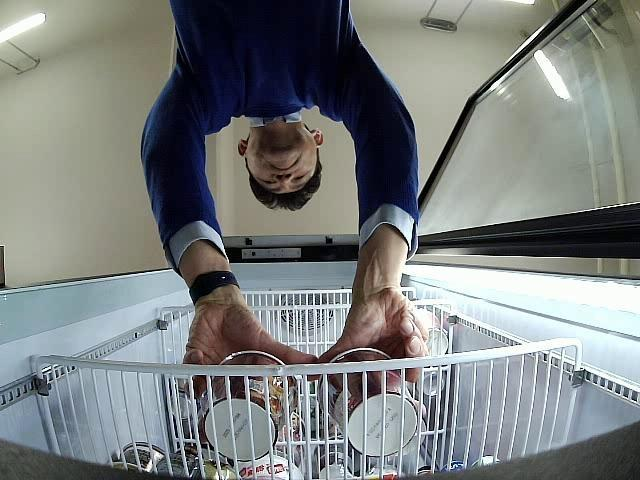06_nuguri_S: (319, 347, 418, 458), (200, 351, 298, 461)
